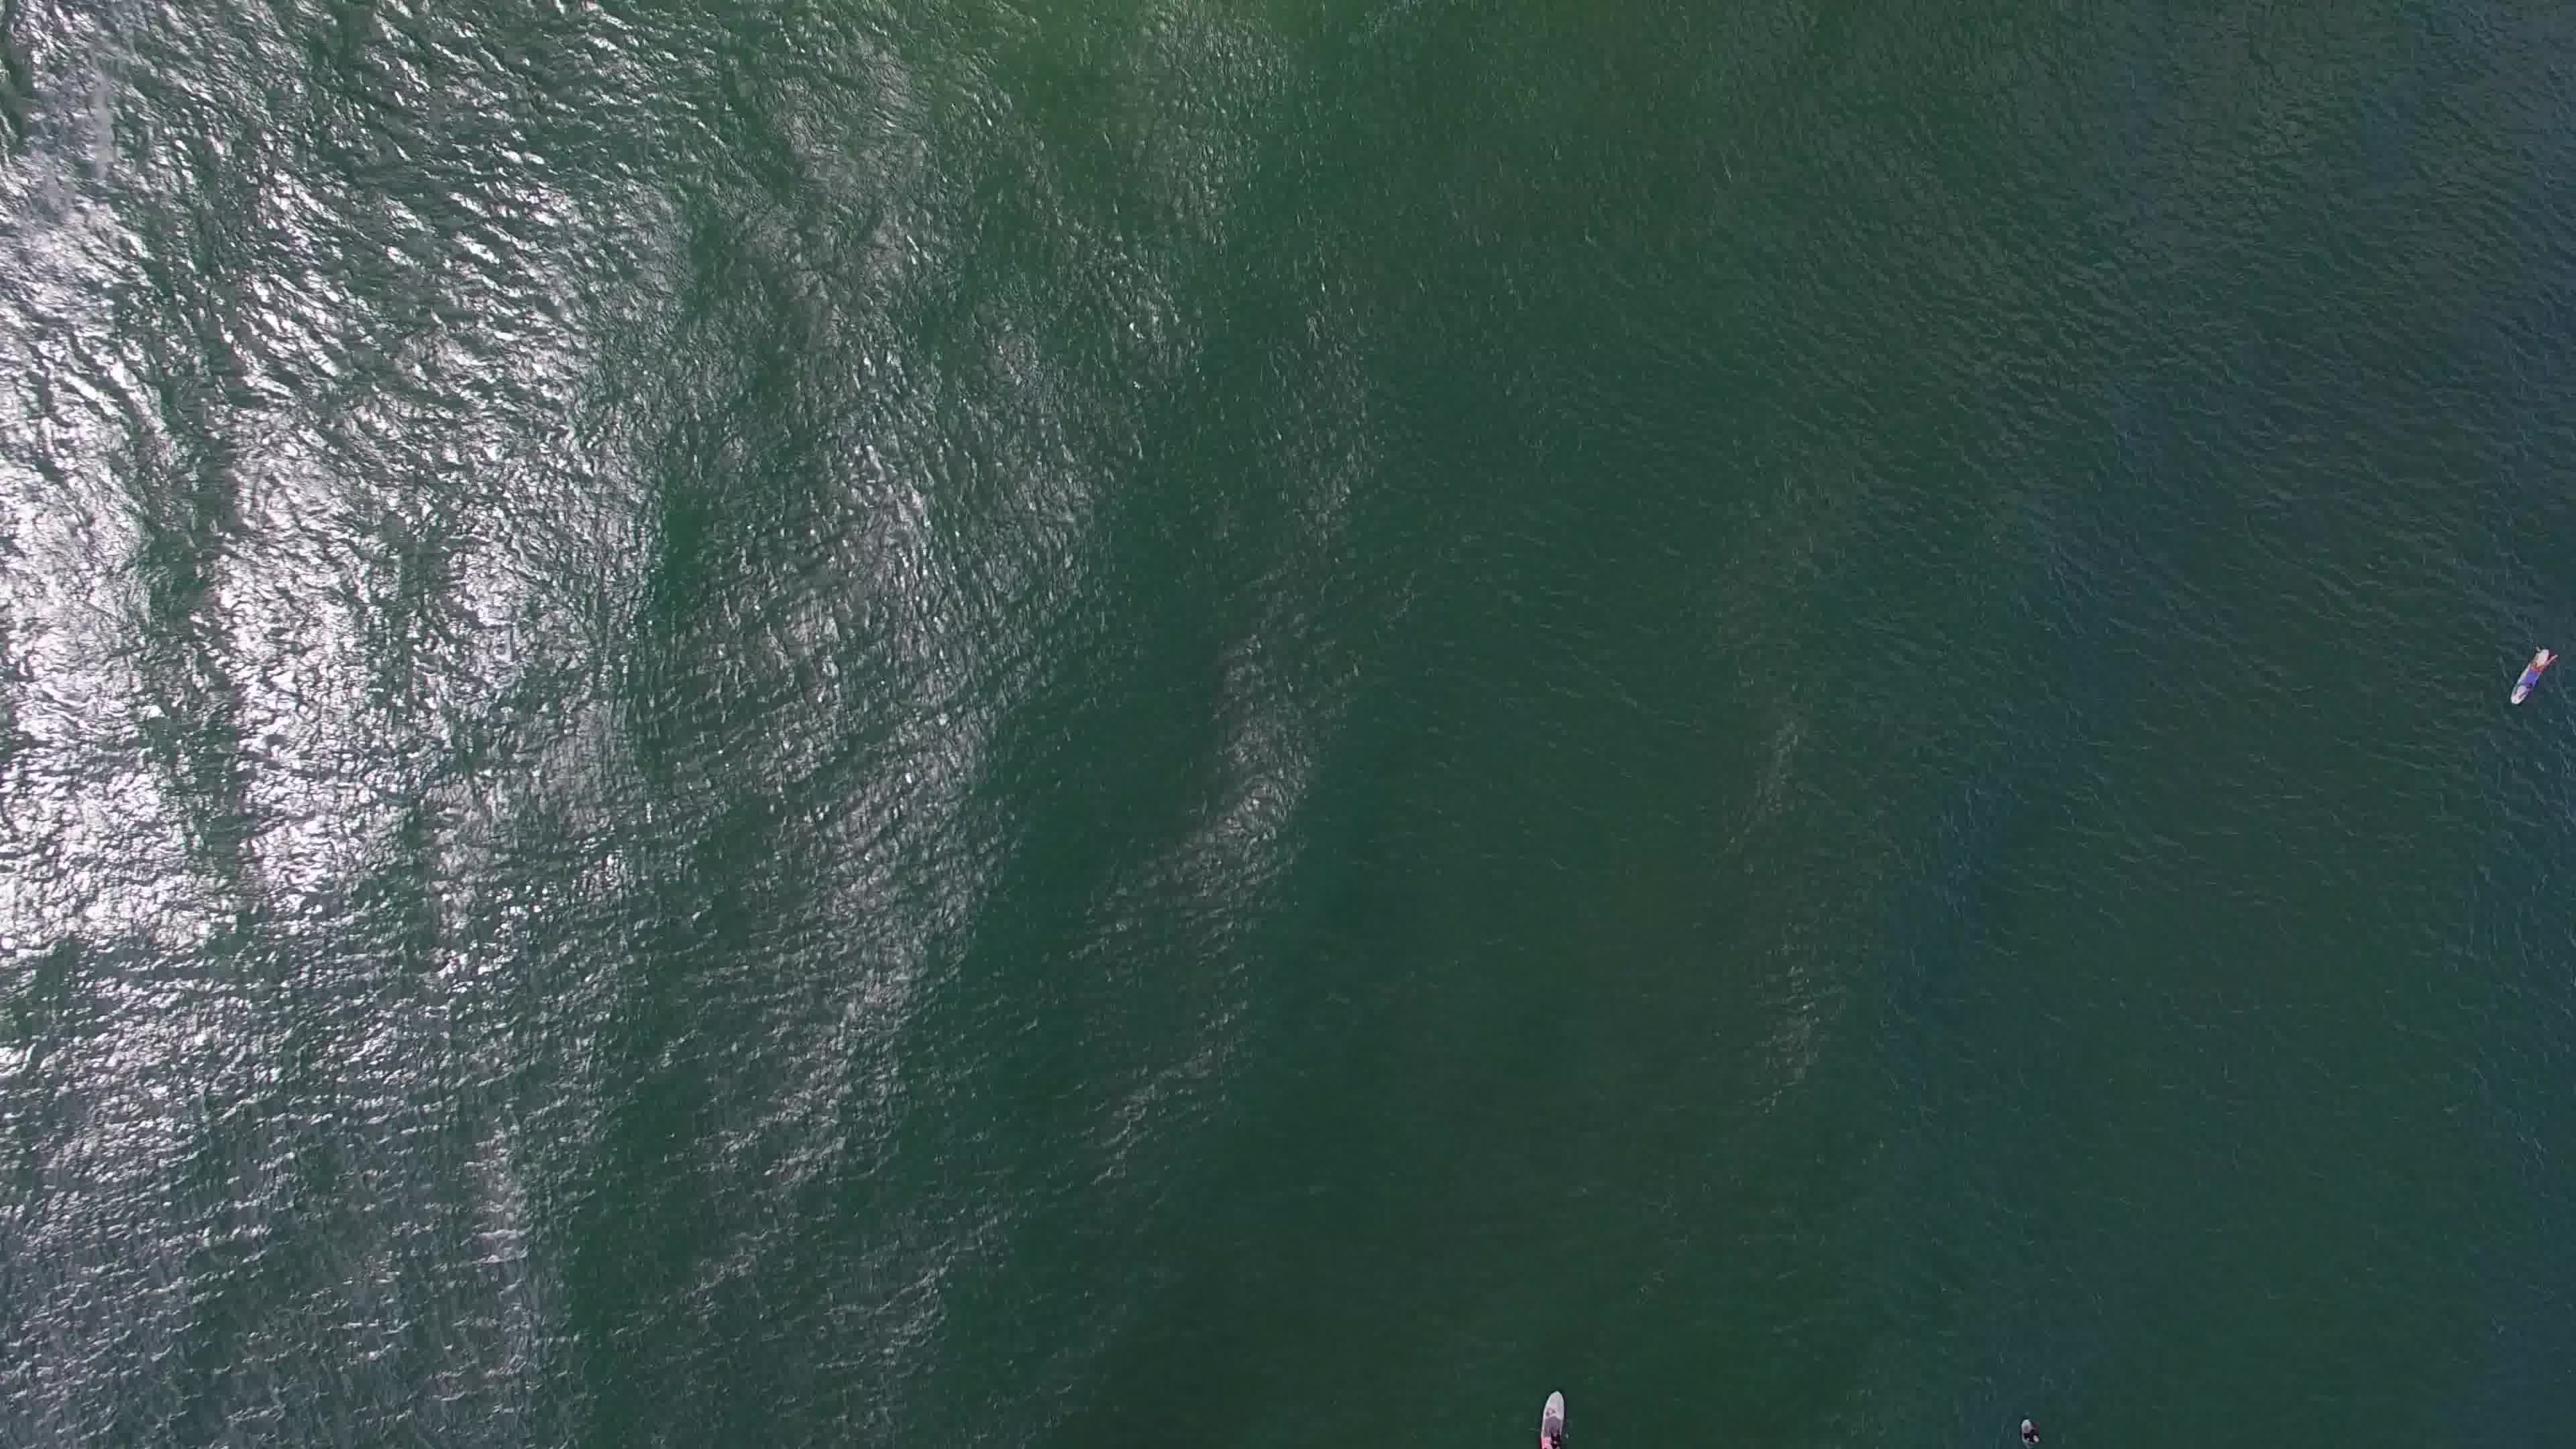surfer: (2503, 633, 2562, 715), (1530, 1384, 1585, 1447), (2006, 1412, 2054, 1449)
